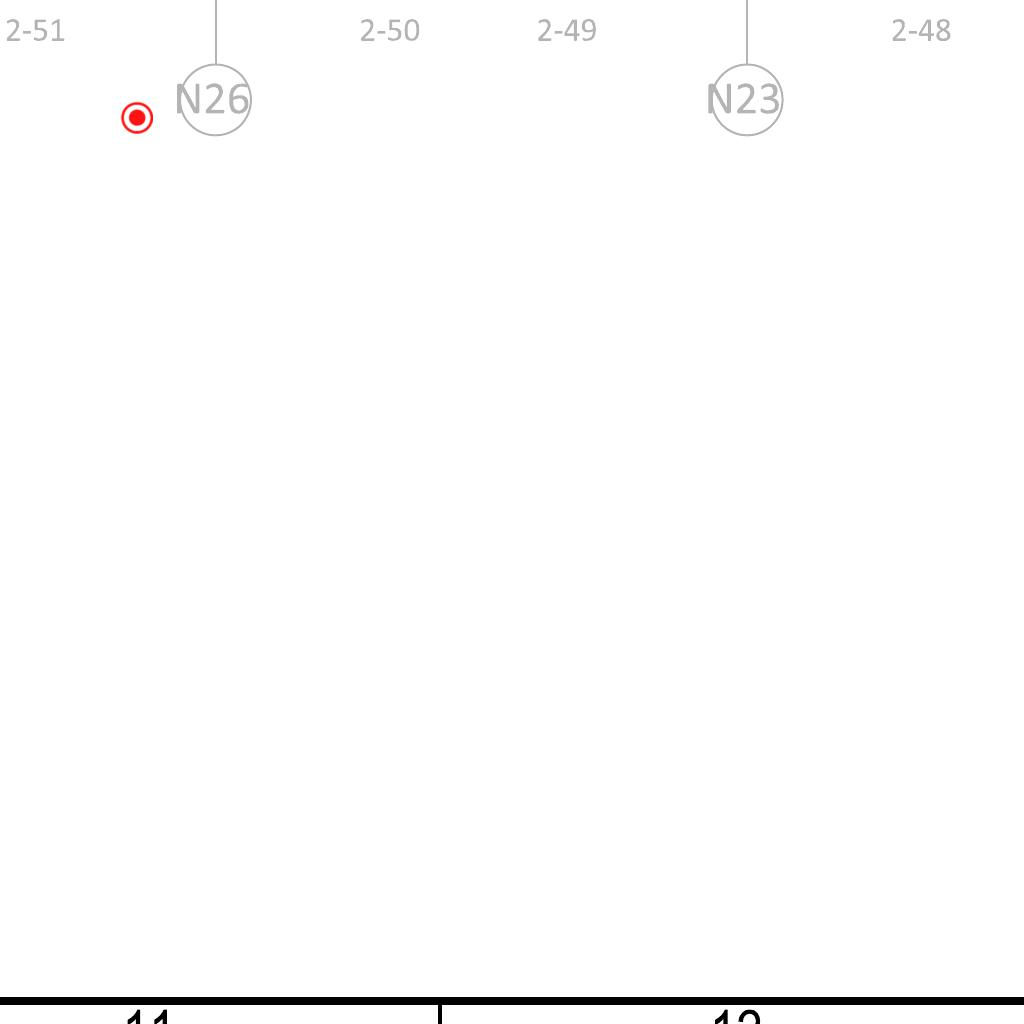Taster: (120, 101, 153, 134)
